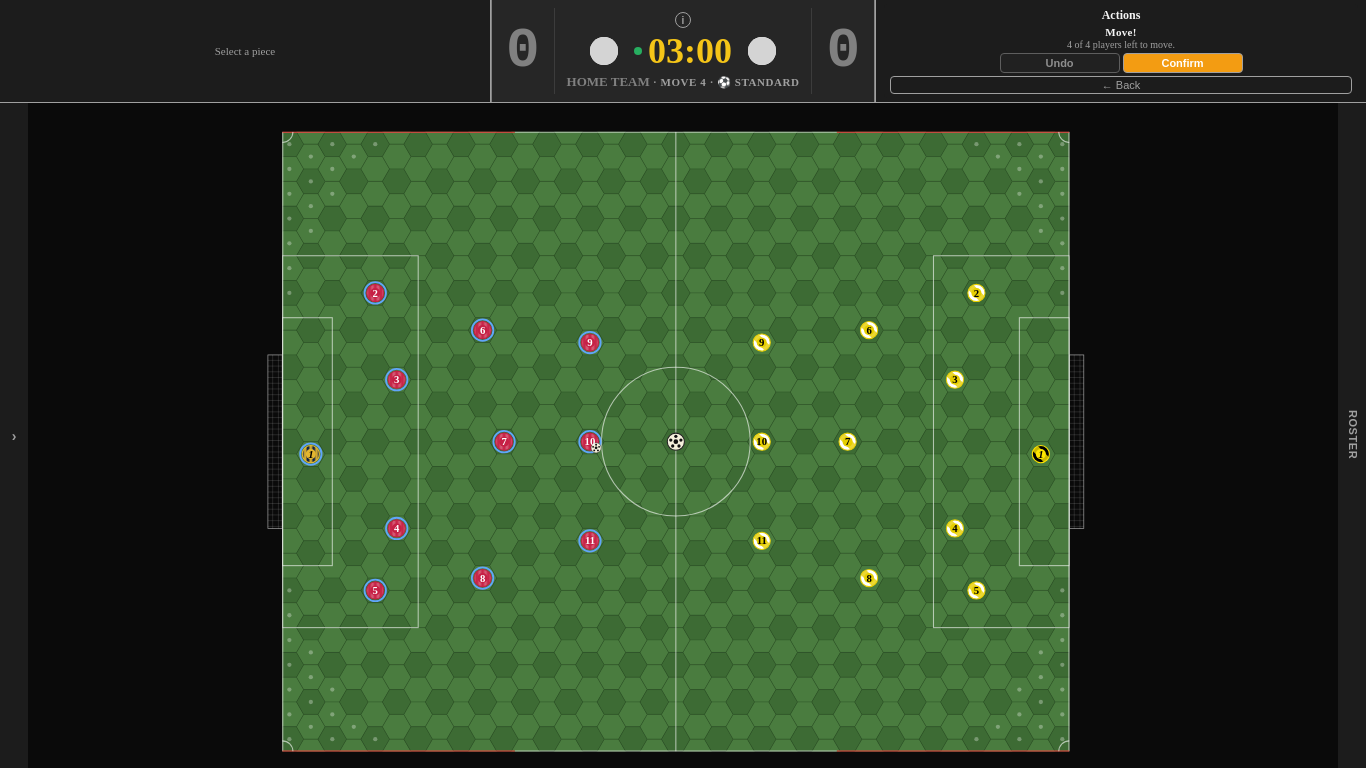
GameBoard — 45-05-02: scoreboard (i) icon and modal mount › opens the modal with the MATCH SUMMARY title and stats block visible when the icon is clicked
Click the button titled "View match summary" at x=683, y=20, box [675,12,691,28]
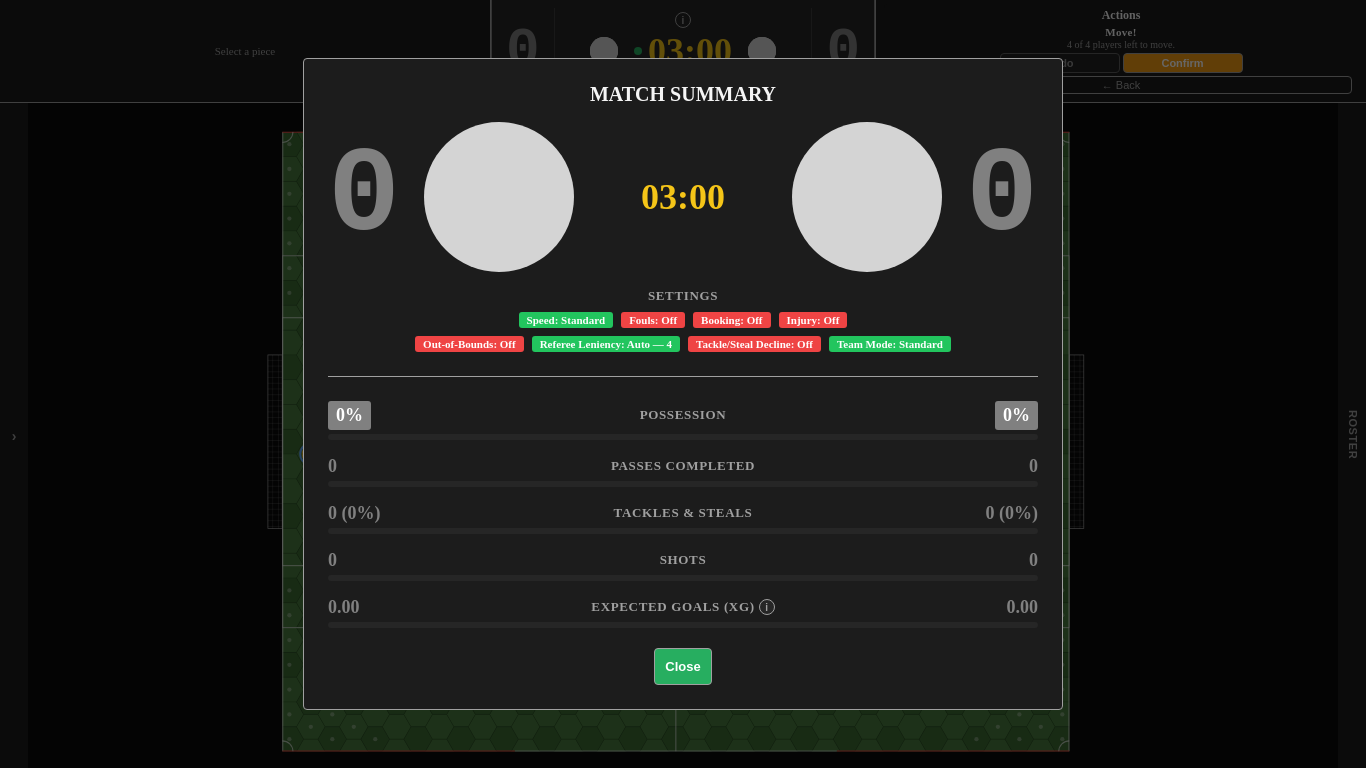
Now the text "MATCH SUMMARY" is shown, box [590,83,776,106]
Now the text "POSSESSION" is shown, box [640,407,726,423]
